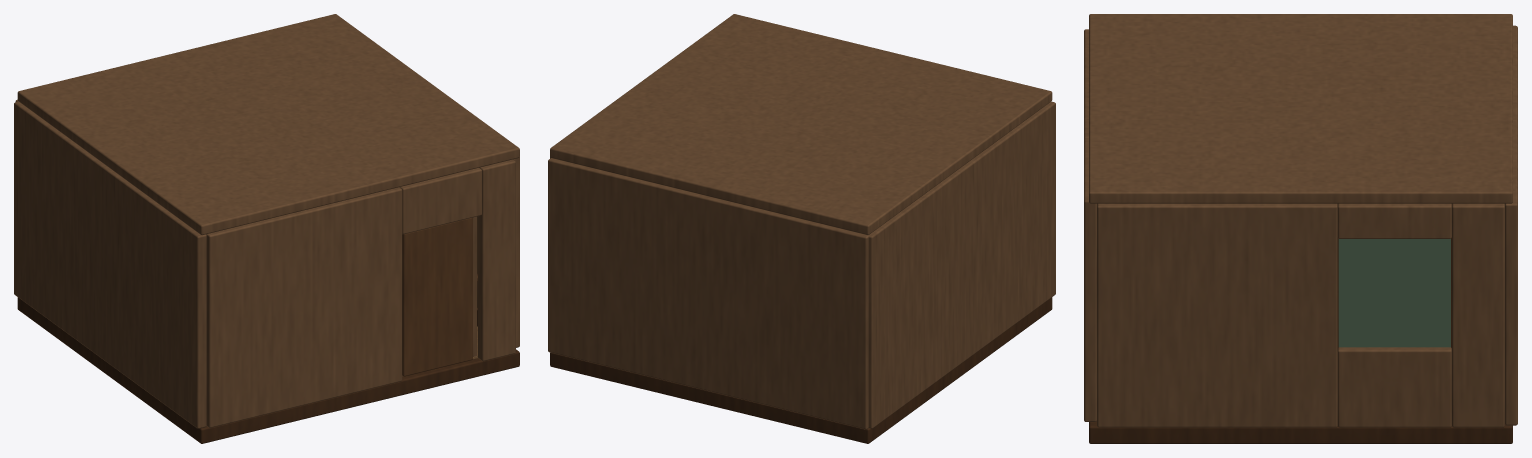
Rendered from Poetry_Escape_Room_Interior.fbx.
3 views of the same model, side by side, from view 1: azimuth 30°, elevation 25°; view 2: azimuth 150°, elevation 25°; view 3: azimuth 270°, elevation 25° (orthographic). The views are drawn at different scales.
Visible parts, largest first — view 1: Ceiling.001, South wall left.001, West wall - enable for enclosed view.001, EXIT - hinged door.001, Foundation.001, South wall right.001, Door lintel.001, East wall south.001, Door casing.003; view 2: North wall.001, Ceiling.001, West wall - enable for enclosed view.001, Foundation.001; view 3: Ceiling.001, East wall south.001, WINDOW_PORTAL - replace shader in Unity.001, East wall north.001, Window lower wall.001, Foundation.001, Window upper wall.001, North wall.001, South wall right.001, South wall left.001.
Part boxes in pixels (x1,y1,x2,y2): Ceiling.001: [17, 14, 519, 235]; South wall left.001: [206, 187, 402, 427]; West wall - enable for enclosed view.001: [14, 101, 206, 428]; EXIT - hinged door.001: [402, 217, 472, 376]; Foundation.001: [17, 297, 519, 443]; South wall right.001: [477, 159, 515, 361]; Door lintel.001: [399, 168, 481, 234]; East wall south.001: [477, 156, 519, 347]; Door casing.003: [473, 216, 476, 356]; North wall.001: [548, 158, 868, 429]; Ceiling.001: [550, 14, 1052, 235]; West wall - enable for enclosed view.001: [868, 101, 1055, 428]; Foundation.001: [550, 297, 1052, 443]; Ceiling.001: [1089, 14, 1512, 203]; East wall south.001: [1097, 203, 1337, 427]; WINDOW_PORTAL - replace shader in Unity.001: [1338, 239, 1450, 347]; East wall north.001: [1452, 203, 1504, 427]; Window lower wall.001: [1337, 347, 1451, 427]; Foundation.001: [1089, 421, 1512, 443]; Window upper wall.001: [1337, 203, 1451, 238]; North wall.001: [1505, 25, 1517, 425]; South wall right.001: [1084, 182, 1096, 421]; South wall left.001: [1084, 29, 1088, 138].
Size of the model in its own units: 5.32 by 3.41 by 5.32.
Materials: 13 (12 with a texture image).
